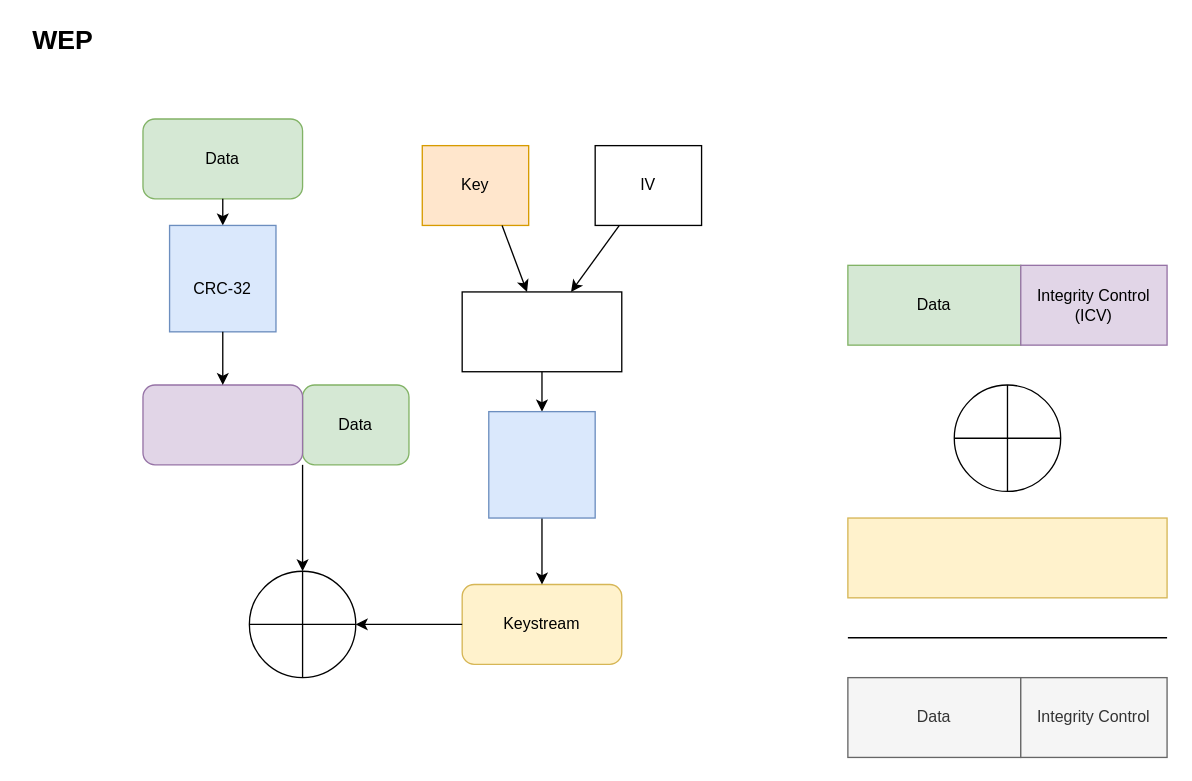
The diagram is 1192 pixels wide and 781 high, and some of its shapes have lost their labels. Each missing label, with the centre of its shape:
ICV: point (222, 424)
Pseudo-Random sequence (keystream): point (1007, 557)
RC4: point (541, 464)
Seed RC4 : Concatenate Key + IV: point (541, 331)
